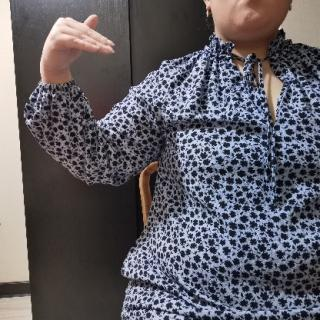KHAA: (37, 8, 120, 76)
